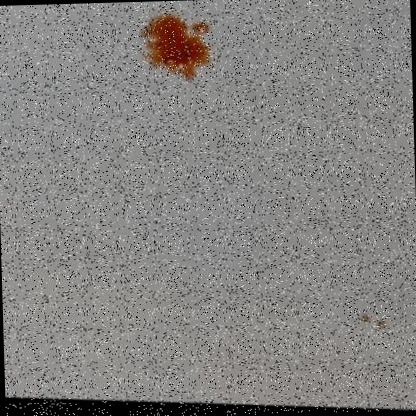kimchi: (138, 12, 221, 89)
